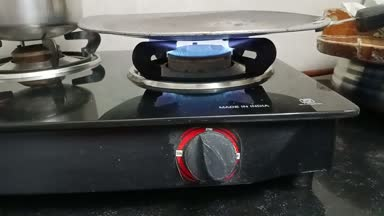flame_gas_on: (146, 38, 264, 187)
